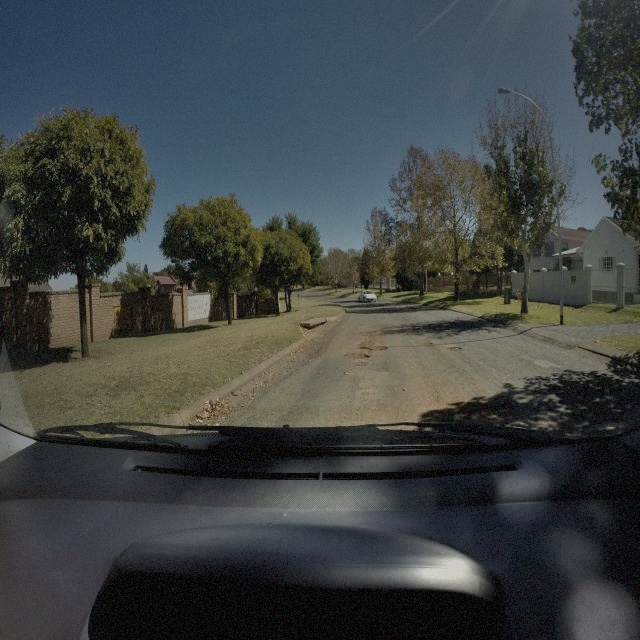pothole: (343, 352, 371, 361), (372, 344, 388, 351), (448, 344, 462, 352), (425, 341, 433, 346)
